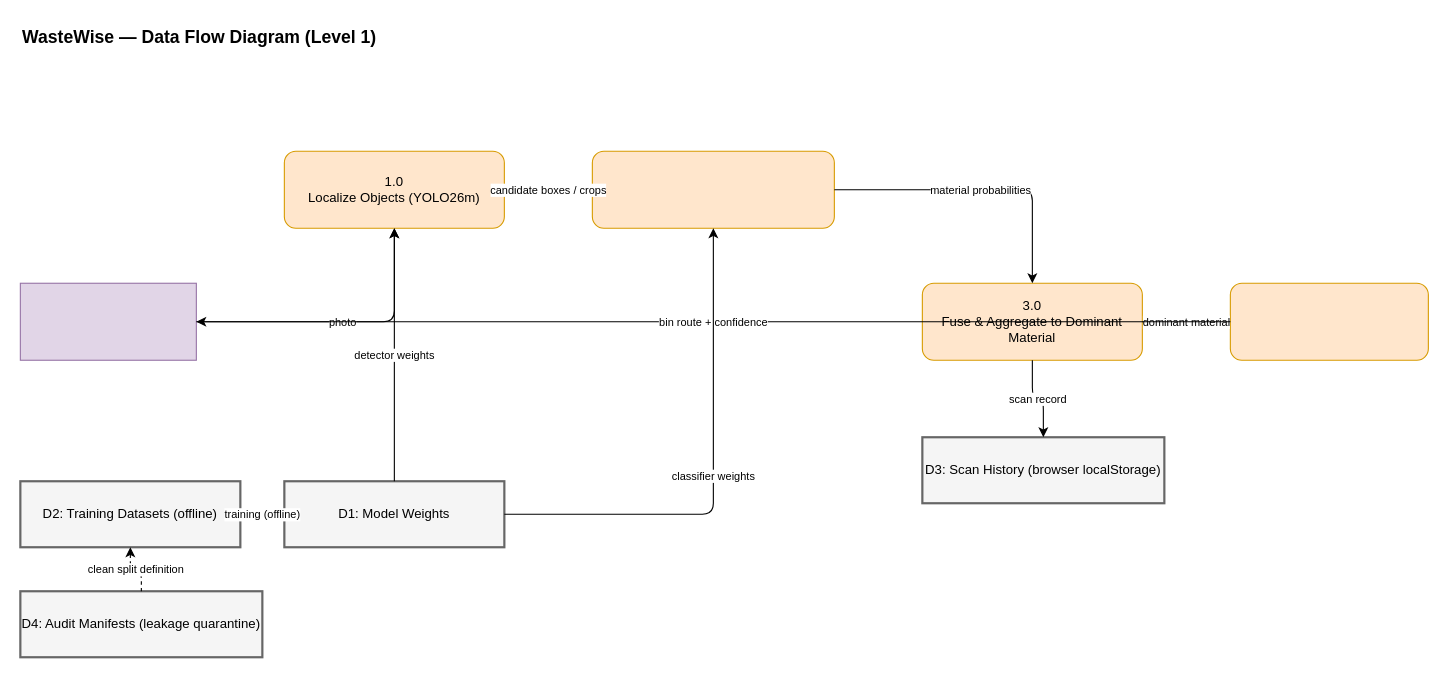
Some shapes in this 1448 by 677 pixel diagram are drawn without their labels. Each missing label, with the box of its shape:
2.0 Classify Crops (ConvNeXt + 637 features): (591, 150, 834, 228)
4.0 Route to Bin: (1229, 282, 1428, 360)
User (external entity): (19, 282, 196, 360)
